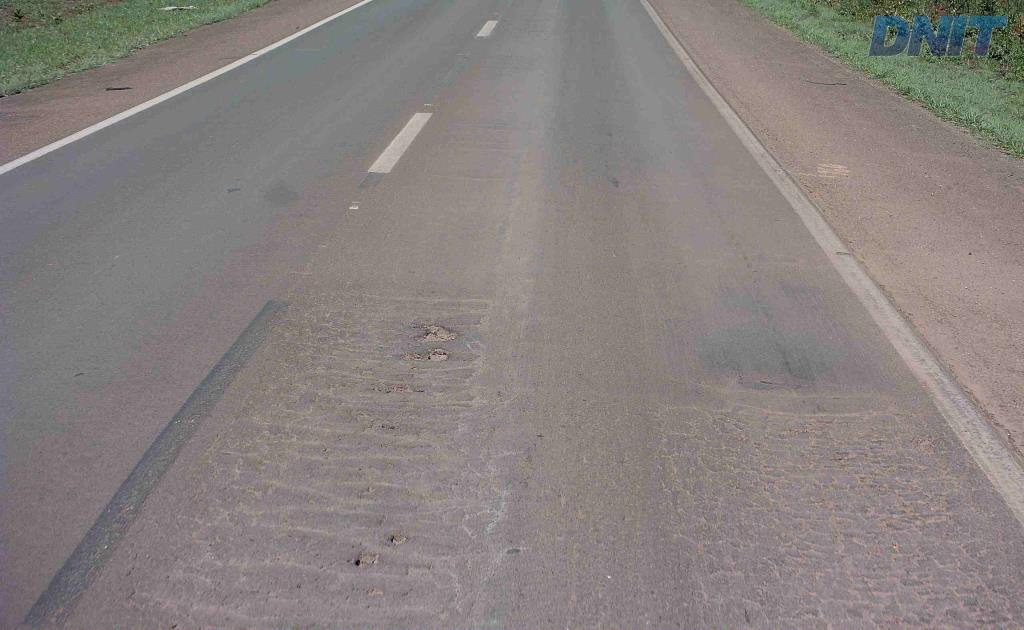crack: (391, 319, 464, 363)
pothole: (412, 318, 459, 344), (393, 347, 452, 364), (348, 553, 383, 575), (384, 530, 416, 544)
